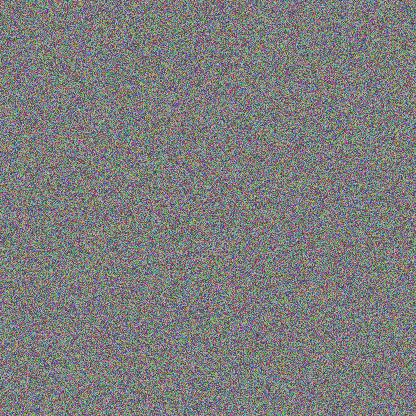empty: (254, 70, 351, 176), (113, 260, 224, 303)
